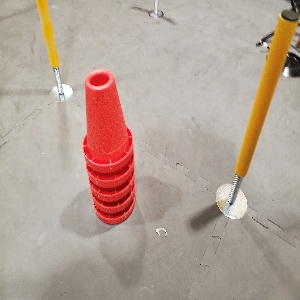Red_5: (75, 69, 138, 224)
